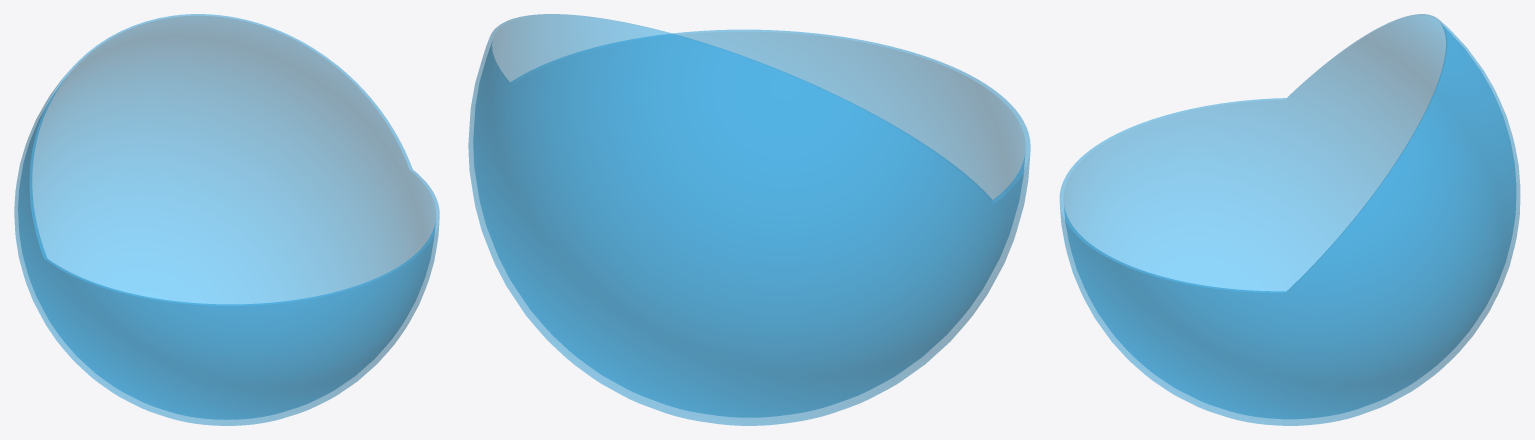
The model's file is membranaplastica.glb.
3 views of the same model, side by side, from view 1: azimuth 30°, elevation 25°; view 2: azimuth 150°, elevation 25°; view 3: azimuth 270°, elevation 25° (orthographic). The views are drawn at different scales.
Visible parts, largest first — view 1: Object_4; view 2: Object_4; view 3: Object_4.
Boxes of the visible parts, x1,y1,x2,y2 form: Object_4: (14,14,439,425); Object_4: (468,14,1030,425); Object_4: (1059,14,1520,425).
Bounding box in the file's own units: 30.95 × 26.8 × 30.94.
